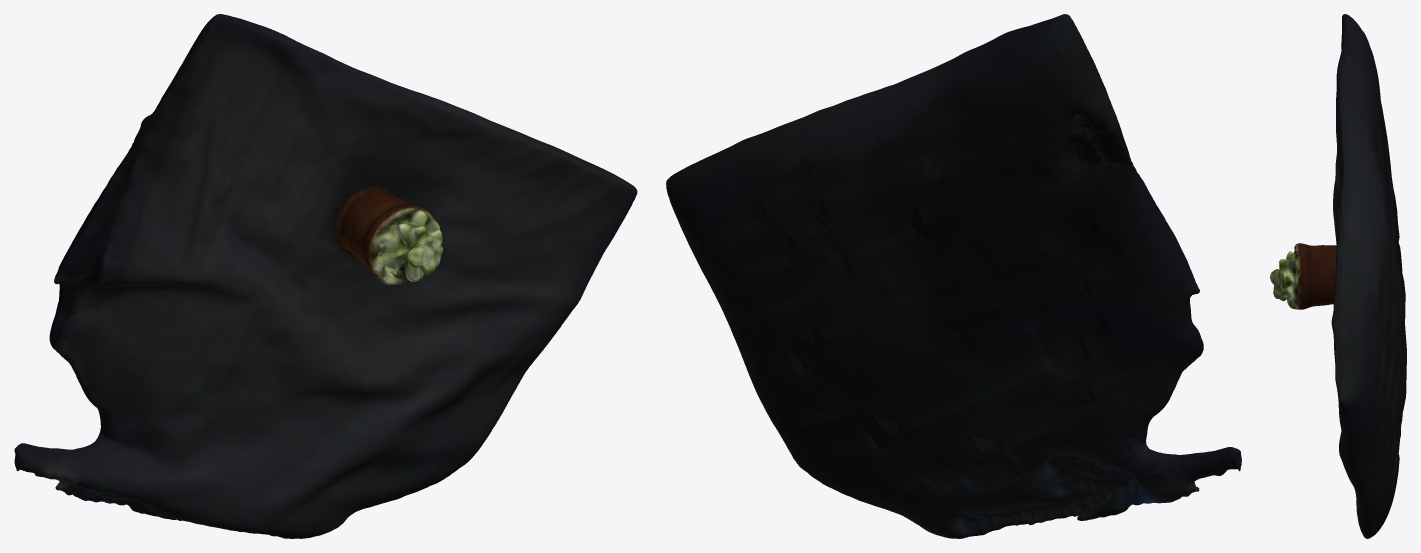
3 renders of one model, left to right at view 1: azimuth 30°, elevation 25°; view 2: azimuth 150°, elevation 25°; view 3: azimuth 270°, elevation 25°, orthographic. The views are drawn at different scales.
Bounding box in the file's own units: 0.6184 × 0.5422 × 0.149.
